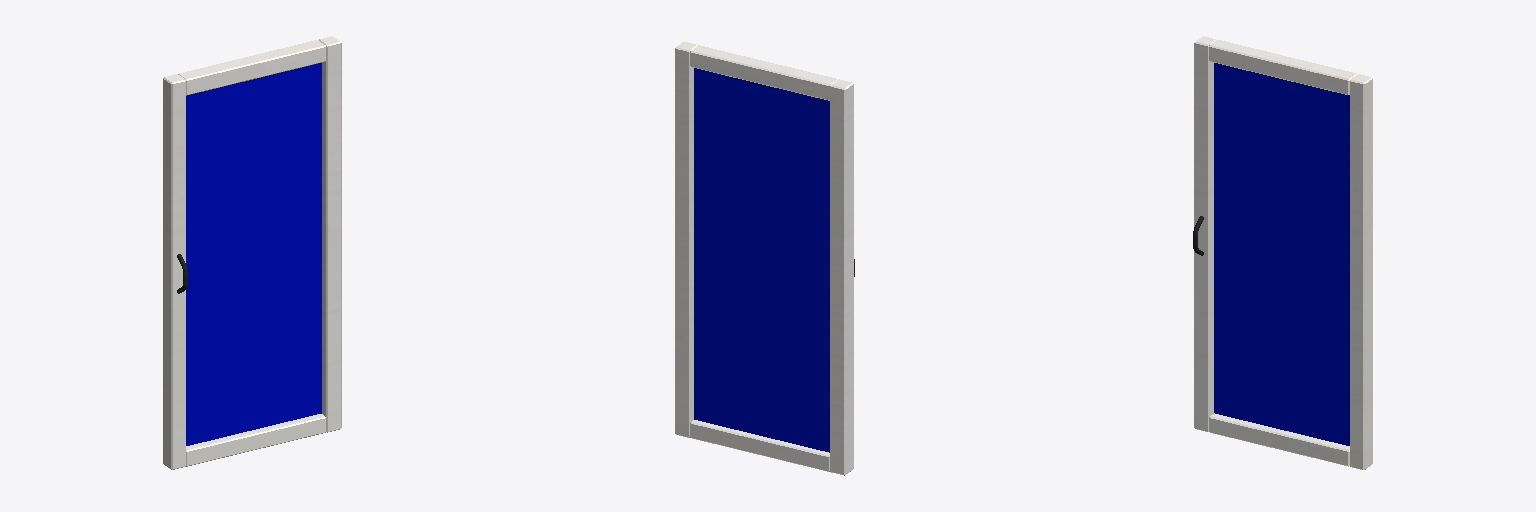
3 renders of one model, left to right at view 1: azimuth 30°, elevation 25°; view 2: azimuth 150°, elevation 25°; view 3: azimuth 330°, elevation 25°, orthographic.
Parts seen in each view (by area): view 1: Object224, Object222; view 2: Object224, Object222; view 3: Object224, Object222.
Boxes of the visible parts, x1,y1,x2,y2 form: Object224: [186, 63, 321, 445]; Object222: [163, 36, 341, 469]; Object224: [694, 68, 829, 452]; Object222: [675, 42, 853, 475]; Object224: [1214, 63, 1349, 445]; Object222: [1194, 36, 1372, 469].
Size of the model in its own units: 438 by 950 by 72.94.
Materials: 3 (1 with a texture image).